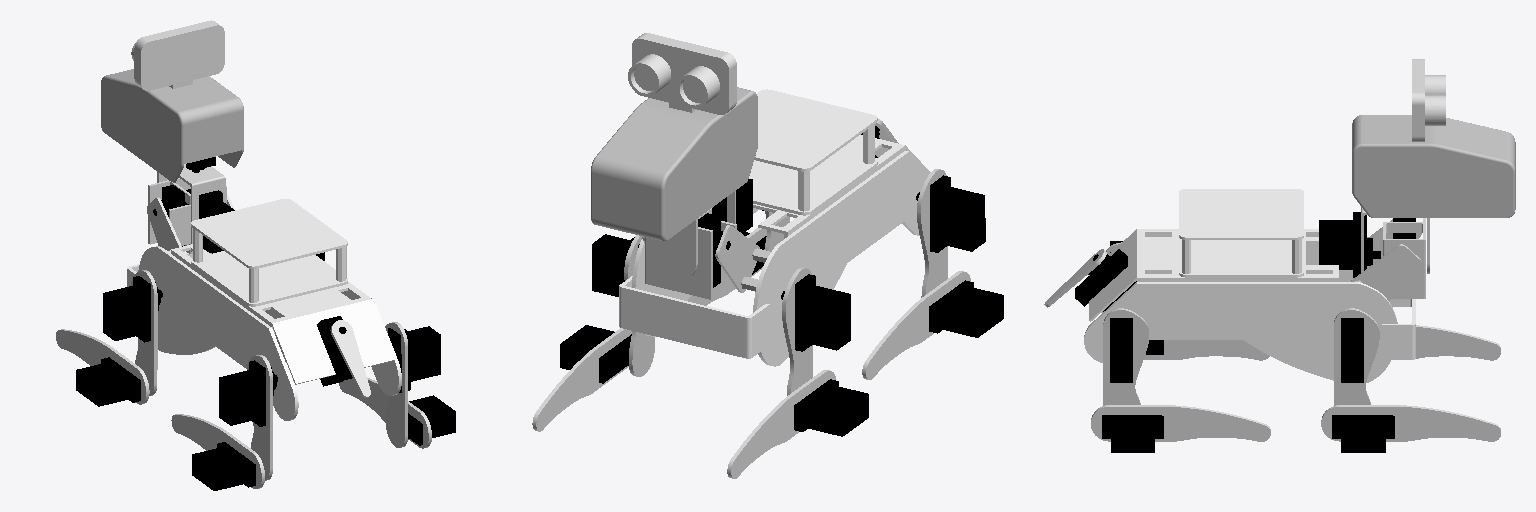
--- What the picture shows (computed from the rendered views, not written in the file) ---
The picture shows the robot from 3 angles, left to right: view 1: azimuth 30°, elevation 25°; view 2: azimuth 150°, elevation 25°; view 3: azimuth 270°, elevation 25°; orthographic projection.
Robot: PiDog — 27 links, 26 joints (12 revolute, 14 fixed); root link body; default pose: every joint at zero.
Visible links, largest first — view 1: body, head, eyes, motor_6, motor_4, motor_7, motor_5, motor_0, back_left_leg_a, front_left_leg_a, back_right_leg_b, motor_1 (+9 smaller); view 2: body, head, eyes, motor_6, motor_4, motor_5, motor_7, back_left_leg_a, front_left_leg_a, front_right_leg_a, neck2, motor_3 (+9 smaller); view 3: body, head, back_right_leg_a, front_right_leg_a, motor_10, neck1, back_right_leg_b, front_right_leg_b, eyes, motor_3, motor_1, front_left_leg_a (+6 smaller).
Boxes of the visible links, <box> form: body: <box>127,199,401,420</box>; head: <box>101,69,243,182</box>; eyes: <box>131,20,224,90</box>; motor_6: <box>103,276,162,342</box>; motor_4: <box>219,360,277,426</box>; motor_7: <box>76,357,140,406</box>; motor_5: <box>192,442,255,490</box>; motor_0: <box>388,326,440,392</box>; back_left_leg_a: <box>171,414,264,488</box>; front_left_leg_a: <box>56,329,149,404</box>; back_right_leg_b: <box>385,322,407,447</box>; motor_1: <box>408,395,455,445</box>; body: <box>619,89,930,366</box>; head: <box>591,87,757,240</box>; eyes: <box>628,33,736,114</box>; motor_6: <box>781,274,850,351</box>; motor_4: <box>916,175,985,252</box>; motor_5: <box>929,280,1003,337</box>; motor_7: <box>794,379,868,436</box>; back_left_leg_a: <box>862,271,970,379</box>; front_left_leg_a: <box>727,370,835,478</box>; front_right_leg_a: <box>532,328,631,431</box>; neck2: <box>645,208,736,299</box>; motor_3: <box>560,325,631,383</box>; body: <box>1084,189,1415,382</box>; head: <box>1352,115,1515,217</box>; back_right_leg_a: <box>1091,405,1270,441</box>; front_right_leg_a: <box>1321,405,1500,441</box>; motor_10: <box>1319,212,1380,277</box>; neck1: <box>1351,219,1421,300</box>; back_right_leg_b: <box>1103,308,1148,405</box>; front_right_leg_b: <box>1334,308,1379,405</box>; eyes: <box>1412,59,1445,141</box>; motor_3: <box>1332,415,1394,452</box>; motor_1: <box>1102,415,1163,452</box>; front_left_leg_a: <box>1416,325,1500,360</box>.
Bounding box of the posed robot: 0.145 × 0.2453 × 0.1856 m (x, y, z).
Meshes: 10 distinct files referenced, 27 mesh visuals loaded (10 Collada DAE).

robot.urdf — PiDog:
<?xml version="1.0" ?>
<robot name="PiDog">
  <link name="body">
    <!-- <visual><geometry><box size="0.1 0.1 0.1"/></geometry></visual>
    <collision><geometry><box size="0.1 0.1 0.1"/></geometry></collision> -->
    <visual>
      <origin xyz="0.0 0.0 0.0" rpy="0.0 0.0 0.0"/>
      <geometry>
        <mesh filename="package://pidog_description/meshes/body.dae"/>
      </geometry>
    </visual>
    <collision>
      <origin xyz="0.0 0.0 0.0" rpy="0.0 -0.0 0.0"/>
      <geometry>
        <mesh filename="package://pidog_description/meshes/body.dae"/>
      </geometry>
    </collision>
    <inertial>
      <origin xyz="-0.0 -0.0 -0.0" rpy="0 0 0"/>
      <mass value="0.150235137"/>
      <!-- <inertia ixx="3.850881180e-04" ixy="-3.935522340e-05" ixz="1.660095831e-08" iyy="1.600992763e-04" iyz="4.845267497e-09" izz="3.450054696e-04"/> -->
      <inertia ixx="3.850881180e-04" ixy="1.660095831e-08" ixz="1.660095831e-08" iyy="1.600992763e-04" iyz="4.845267497e-09" izz="3.450054696e-04"/>
    </inertial>
  </link>


  <!-- ===============================================================================================================
  ========================================== BACK RIGHT LEG =====================================================
  =============================================================================================================== -->

  <link name="motor_0">
    <visual>
      <origin xyz="0.0 0.0 0.0" rpy="0.0 -0.0 0.0"/>
      <geometry>
        <mesh filename="package://pidog_description/meshes/motor.dae"/>
      </geometry>
    </visual>
    <collision>
      <origin xyz="0.0 0.0 0.0" rpy="0.0 -0.0 0.0"/>
      <geometry>
        <mesh filename="package://pidog_description/meshes/motor.dae"/>
      </geometry>
    </collision>
    <inertial>
      <origin xyz="0.0060 0.0000 0.0065" rpy="0 0 0"/>
      <mass value="0.009000000"/>
      <inertia ixx="6.435884464e-16" ixy="5.517532056e-32" ixz="-3.026407696e-17" iyy="1.064905063e-15" iyz="2.727860255e-32" izz="6.314836794e-16"/>
    </inertial>
  </link>  
  
  <link name="motor_1">
    <visual>
      <origin xyz="0.0 0.0 0.0" rpy="0.0 -0.0 0.0"/>
      <geometry>
        <mesh filename="package://pidog_description/meshes/motor.dae"/>
      </geometry>
    </visual>
    <collision>
      <origin xyz="0.0 0.0 0.0" rpy="0.0 -0.0 0.0"/>
      <geometry>
        <mesh filename="package://pidog_description/meshes/motor.dae"/>
      </geometry>
    </collision>
    <inertial>
      <origin xyz="0.0060 0.0000 0.0065" rpy="0 0 0"/>
      <mass value="0.009000000"/>
      <inertia ixx="6.435884464e-16" ixy="5.517532056e-32" ixz="-3.026407696e-17" iyy="1.064905063e-15" iyz="2.727860255e-32" izz="6.314836794e-16"/>
    </inertial>
  </link>

  <link name="back_right_leg_b">
    <visual>
      <origin xyz="0.0 0.0 0.0" rpy="0.0 -0.0 0.0"/>
      <geometry>
        <mesh filename="package://pidog_description/meshes/leg_b.dae"/>
      </geometry>
    </visual>
    <collision>
      <origin xyz="0.0 0.0 0.0" rpy="0.0 -0.0 0.0"/>
      <geometry>
        <mesh filename="package://pidog_description/meshes/leg_b.dae"/>
      </geometry>
    </collision>
    <inertial>
      <origin xyz="0.0205 0.0025 0.0000" rpy="0 0 0"/>
      <mass value="0.007296257"/>
      <inertia ixx="2.581522796e-07" ixy="9.763369628e-08" ixz="3.929017112e-23" iyy="2.780168904e-06" iyz="-1.964508556e-23" izz="3.033456726e-06"/>
    </inertial>
  </link>

  <link name="back_right_leg_a">
    <visual>
      <origin xyz="0.0 0.0 0.0" rpy="0.0 -0.0 0.0"/>
      <geometry>
        <mesh filename="package://pidog_description/meshes/leg_a.dae"/>
      </geometry>
    </visual>
    <collision>
      <origin xyz="0.0 0.0 0.0" rpy="0.0 -0.0 0.0"/>
      <geometry>
        <mesh filename="package://pidog_description/meshes/leg_a.dae"/>
      </geometry>
    </collision>
    <inertial>
      <origin xyz="0.0308 0.0009 0.0010" rpy="0 0 0"/>
      <mass value="0.007296257"/>
      <inertia ixx="2.581522796e-07" ixy="9.763369628e-08" ixz="3.929017112e-23" iyy="2.780168904e-06" iyz="-1.964508556e-23" izz="3.033456726e-06"/>
    </inertial>
  </link>

  <joint name="body_to_back_right_leg_b" type="revolute">
    <parent link="body"/>
    <child  link="back_right_leg_b"/>
    <origin xyz="0.0405 -0.06685 -0.009" rpy="0 1.57 0"/>
    <axis xyz="0 0 1"/>
    <limit effort="0.3" velocity="1.0" lower="-1.57" upper="1.57"/>
  </joint>

  <joint name="back_right_leg_b_to_motor_0" type="fixed">
    <parent link="back_right_leg_b"/>
    <child  link="motor_0"/>
    <origin xyz="0 0 0" rpy="0 0 0"/>
  </joint>

  <joint name="back_right_leg_b_to_a" type="revolute">
    <parent link="back_right_leg_b"/>
    <child  link="back_right_leg_a"/>
    <origin xyz="0.047 0 0.0095" rpy="0 0 1.57"/>
    <axis xyz="0 0 1"/>
    <limit effort="0.3" velocity="1.0" lower="-1.57" upper="1.57"/>
  
  </joint>
    <joint name="back_right_leg_a_to_motor_1" type="fixed">
    <parent link="back_right_leg_a"/>
    <child  link="motor_1"/>
    <origin xyz="0 0 0" rpy="0 0 0"/>
  </joint>


    <!-- ===============================================================================================================
  ========================================== FRONT RIGHT LEG =====================================================
  =============================================================================================================== -->

  <link name="motor_2">
    <visual>
      <origin xyz="0.0 0.0 0.0" rpy="0.0 -0.0 0.0"/>
      <geometry>
        <mesh filename="package://pidog_description/meshes/motor.dae"/>
      </geometry>
    </visual>
    <collision>
      <origin xyz="0.0 0.0 0.0" rpy="0.0 -0.0 0.0"/>
      <geometry>
        <mesh filename="package://pidog_description/meshes/motor.dae"/>
      </geometry>
    </collision>
    <inertial>
      <origin xyz="0.0060 0.0000 0.0065" rpy="0 0 0"/>
      <mass value="0.009000000"/>
      <inertia ixx="6.435884464e-16" ixy="5.517532056e-32" ixz="-3.026407696e-17" iyy="1.064905063e-15" iyz="2.727860255e-32" izz="6.314836794e-16"/>
    </inertial>
  </link>  
  
  <link name="motor_3">
    <visual>
      <origin xyz="0.0 0.0 0.0" rpy="0.0 -0.0 0.0"/>
      <geometry>
        <mesh filename="package://pidog_description/meshes/motor.dae"/>
      </geometry>
    </visual>
    <collision>
      <origin xyz="0.0 0.0 0.0" rpy="0.0 -0.0 0.0"/>
      <geometry>
        <mesh filename="package://pidog_description/meshes/motor.dae"/>
      </geometry>
    </collision>
    <inertial>
      <origin xyz="0.0060 0.0000 0.0065" rpy="0 0 0"/>
      <mass value="0.009000000"/>
      <inertia ixx="6.435884464e-16" ixy="5.517532056e-32" ixz="-3.026407696e-17" iyy="1.064905063e-15" iyz="2.727860255e-32" izz="6.314836794e-16"/>
    </inertial>
  </link>

  <link name="front_right_leg_b">
    <visual>
      <origin xyz="0.0 0.0 0.0" rpy="0.0 -0.0 0.0"/>
      <geometry>
        <mesh filename="package://pidog_description/meshes/leg_b.dae"/>
      </geometry>
    </visual>
    <collision>
      <origin xyz="0.0 0.0 0.0" rpy="0.0 -0.0 0.0"/>
      <geometry>
        <mesh filename="package://pidog_description/meshes/leg_b.dae"/>
      </geometry>
    </collision>
    <inertial>
      <origin xyz="0.0205 0.0025 0.0000" rpy="0 0 0"/>
      <mass value="0.007296257"/>
      <inertia ixx="2.581522796e-07" ixy="9.763369628e-08" ixz="3.929017112e-23" iyy="2.780168904e-06" iyz="-1.964508556e-23" izz="3.033456726e-06"/>
    </inertial>
  </link>

  <link name="front_right_leg_a">
    <visual>
      <origin xyz="0.0 0.0 0.0" rpy="0.0 -0.0 0.0"/>
      <geometry>
        <mesh filename="package://pidog_description/meshes/leg_a.dae"/>
      </geometry>
    </visual>
    <collision>
      <origin xyz="0.0 0.0 0.0" rpy="0.0 -0.0 0.0"/>
      <geometry>
        <mesh filename="package://pidog_description/meshes/leg_a.dae"/>
      </geometry>
    </collision>
    <inertial>
      <origin xyz="0.0308 0.0009 0.0010" rpy="0 0 0"/>
      <mass value="0.007296257"/>
      <inertia ixx="2.581522796e-07" ixy="9.763369628e-08" ixz="3.929017112e-23" iyy="2.780168904e-06" iyz="-1.964508556e-23" izz="3.033456726e-06"/>
    </inertial>
  </link>

  <joint name="body_to_from_right_leg_b" type="revolute">
    <parent link="body"/>
    <child  link="front_right_leg_b"/>
    <origin xyz="0.0405 0.05315 -0.009" rpy="0 1.57 0"/>
    <axis xyz="0 0 1"/>
    <limit effort="0.3" velocity="1.0" lower="-1.57" upper="1.57"/>
  </joint>

  <joint name="front_right_leg_b_to_motor_2" type="fixed">
    <parent link="front_right_leg_b"/>
    <child  link="motor_2"/>
    <origin xyz="0 0 0" rpy="0 0 0"/>
  </joint>

  <joint name="front_right_leg_b_to_a" type="revolute">
    <parent link="front_right_leg_b"/>
    <child  link="front_right_leg_a"/>
    <origin xyz="0.047 0 0.0095" rpy="0 0 1.57"/>
    <axis xyz="0 0 1"/>
    <limit effort="0.3" velocity="1.0" lower="-1.57" upper="1.57"/>
  
  </joint>
    <joint name="front_right_leg_a_to_motor_3" type="fixed">
    <parent link="front_right_leg_a"/>
    <child  link="motor_3"/>
    <origin xyz="0 0 0" rpy="0 0 0"/>
  </joint>


      <!-- ===============================================================================================================
  ========================================== BACK LEFT LEG =====================================================
  =============================================================================================================== -->

  <link name="motor_4">
    <visual>
      <origin xyz="0.0 0.0 0.0" rpy="0.0 -0.0 0.0"/>
      <geometry>
        <mesh filename="package://pidog_description/meshes/motor.dae"/>
      </geometry>
    </visual>
    <collision>
      <origin xyz="0.0 0.0 0.0" rpy="0.0 -0.0 0.0"/>
      <geometry>
        <mesh filename="package://pidog_description/meshes/motor.dae"/>
      </geometry>
    </collision>
    <inertial>
      <origin xyz="0.0060 0.0000 0.0065" rpy="0 0 0"/>
      <mass value="0.009000000"/>
      <inertia ixx="6.435884464e-16" ixy="5.517532056e-32" ixz="-3.026407696e-17" iyy="1.064905063e-15" iyz="2.727860255e-32" izz="6.314836794e-16"/>
    </inertial>
  </link>  
  
  <link name="motor_5">
    <visual>
      <origin xyz="0.0 0.0 0.0" rpy="0.0 -0.0 3.1415"/>
      <geometry>
        <mesh filename="package://pidog_description/meshes/motor.dae"/>
      </geometry>
    </visual>
    <collision>
      <origin xyz="0.0 0.0 0.0" rpy="0.0 -0.0 3.1415"/>
      <geometry>
        <mesh filename="package://pidog_description/meshes/motor.dae"/>
      </geometry>
    </collision>
    <inertial>
      <origin xyz="-0.0060 0.0000 0.0065" rpy="0 0 3.1415"/>
      <mass value="0.009000000"/>
      <inertia ixx="6.435884464e-16" ixy="5.517532056e-32" ixz="-3.026407696e-17" iyy="1.064905063e-15" iyz="2.727860255e-32" izz="6.314836794e-16"/>
    </inertial>
  </link>

  <link name="back_left_leg_b">
    <visual>
      <origin xyz="0.0 0.0 0.0" rpy="3.1415 0.0 0.0"/>
      <geometry>
        <mesh filename="package://pidog_description/meshes/leg_b.dae"/>
      </geometry>
    </visual>
    <collision>
      <origin xyz="0.0 0.0 0.0" rpy="3.1415 -0.0 0.0"/>
      <geometry>
        <mesh filename="package://pidog_description/meshes/leg_b.dae"/>
      </geometry>
    </collision>
    <inertial>
      <origin xyz="0.0205 -0.0025 0.0000" rpy="0 0 0"/>
      <mass value="0.007296257"/>
      <inertia ixx="2.581522796e-07" ixy="9.763369628e-08" ixz="3.929017112e-23" iyy="2.780168904e-06" iyz="-1.964508556e-23" izz="3.033456726e-06"/>
    </inertial>
  </link>

  <link name="back_left_leg_a">
    <visual>
      <origin xyz="0.0 0.0 0.0" rpy="0.0 3.1415 0.0"/>
      <geometry>
        <mesh filename="package://pidog_description/meshes/leg_a.dae"/>
      </geometry>
    </visual>
    <collision>
      <origin xyz="0.0 0.0 0.0" rpy="0.0 3.1415 0.0"/>
      <geometry>
        <mesh filename="package://pidog_description/meshes/leg_a.dae"/>
      </geometry>
    </collision>
    <inertial>
      <origin xyz="-0.0308 -0.0009 -0.0010" rpy="0 3.1415 0"/>
      <mass value="0.007296257"/>
      <inertia ixx="2.581522796e-07" ixy="9.763369628e-08" ixz="3.929017112e-23" iyy="2.780168904e-06" iyz="-1.964508556e-23" izz="3.033456726e-06"/>
    </inertial>
  </link>

  <joint name="body_to_back_left_leg_b" type="revolute">
    <parent link="body"/>
    <child  link="back_left_leg_b"/>
    <origin xyz="-0.0405 -0.06685 -0.009" rpy="0 1.57 3.1415"/>
    <axis xyz="0 0 1"/>
    <limit effort="0.3" velocity="1.0" lower="-1.57" upper="1.57"/>
  </joint>

  <joint name="back_left_leg_b_to_motor_4" type="fixed">
    <parent link="back_left_leg_b"/>
    <child  link="motor_4"/>
    <origin xyz="0 0 0" rpy="0 0 0"/>
  </joint>

  <joint name="back_left_leg_b_to_a" type="revolute">
    <parent link="back_left_leg_b"/>
    <child  link="back_left_leg_a"/>
    <origin xyz="0.047 0 0.0095" rpy="0 0 1.57"/>
    <axis xyz="0 0 1"/>
    <limit effort="0.3" velocity="1.0" lower="-1.57" upper="1.57"/>
  
  </joint>
    <joint name="back_left_leg_a_to_motor_5" type="fixed">
    <parent link="back_left_leg_a"/>
    <child  link="motor_5"/>
    <origin xyz="0 0 0" rpy="0 0 0"/>
  </joint>

    <!-- ===============================================================================================================
  ========================================== FRONT LEFT LEG =====================================================
  =============================================================================================================== -->

  <link name="motor_6">
    <visual>
      <origin xyz="0.0 0.0 0.0" rpy="0.0 -0.0 0.0"/>
      <geometry>
        <mesh filename="package://pidog_description/meshes/motor.dae"/>
      </geometry>
    </visual>
    <collision>
      <origin xyz="0.0 0.0 0.0" rpy="0.0 -0.0 0.0"/>
      <geometry>
        <mesh filename="package://pidog_description/meshes/motor.dae"/>
      </geometry>
    </collision>
    <inertial>
      <origin xyz="0.0060 0.0000 0.0065" rpy="0 0 0"/>
      <mass value="0.009000000"/>
      <inertia ixx="6.435884464e-16" ixy="5.517532056e-32" ixz="-3.026407696e-17" iyy="1.064905063e-15" iyz="2.727860255e-32" izz="6.314836794e-16"/>
    </inertial>
  </link>  
  
  <link name="motor_7">
    <visual>
      <origin xyz="0.0 0.0 0.0" rpy="0.0 -0.0 3.1415"/>
      <geometry>
        <mesh filename="package://pidog_description/meshes/motor.dae"/>
      </geometry>
    </visual>
    <collision>
      <origin xyz="0.0 0.0 0.0" rpy="0.0 -0.0 3.1415"/>
      <geometry>
        <mesh filename="package://pidog_description/meshes/motor.dae"/>
      </geometry>
    </collision>
    <inertial>
      <origin xyz="-0.0060 0.0000 0.0065" rpy="0 0 3.1415"/>
      <mass value="0.009000000"/>
      <inertia ixx="6.435884464e-16" ixy="5.517532056e-32" ixz="-3.026407696e-17" iyy="1.064905063e-15" iyz="2.727860255e-32" izz="6.314836794e-16"/>
    </inertial>
  </link>

  <link name="front_left_leg_b">
    <visual>
      <origin xyz="0.0 0.0 0.0" rpy="3.1415 -0.0 0.0"/>
      <geometry>
        <mesh filename="package://pidog_description/meshes/leg_b.dae"/>
      </geometry>
    </visual>
    <collision>
      <origin xyz="0.0 0.0 0.0" rpy="3.1415 -0.0 0.0"/>
      <geometry>
        <mesh filename="package://pidog_description/meshes/leg_b.dae"/>
      </geometry>
    </collision>
    <inertial>
      <origin xyz="0.0205 -0.0025 0.0000" rpy="0 0 0"/>
      <mass value="0.007296257"/>
      <inertia ixx="2.581522796e-07" ixy="9.763369628e-08" ixz="3.929017112e-23" iyy="2.780168904e-06" iyz="-1.964508556e-23" izz="3.033456726e-06"/>
    </inertial>
  </link>

  <link name="front_left_leg_a">
    <visual>
      <origin xyz="0.0 0.0 0.0" rpy="0.0 3.1415 0.0"/>
      <geometry>
        <mesh filename="package://pidog_description/meshes/leg_a.dae"/>
      </geometry>
    </visual>
    <collision>
      <origin xyz="0.0 0.0 0.0" rpy="0.0 3.1415 0.0"/>
      <geometry>
        <mesh filename="package://pidog_description/meshes/leg_a.dae"/>
      </geometry>
    </collision>
    <inertial>
      <origin xyz="-0.0308 -0.0009 -0.0010" rpy="0 3.1415 0"/>
      <mass value="0.007296257"/>
      <inertia ixx="2.581522796e-07" ixy="9.763369628e-08" ixz="3.929017112e-23" iyy="2.780168904e-06" iyz="-1.964508556e-23" izz="3.033456726e-06"/>
    </inertial>
  </link>

  <joint name="body_to_front_left_leg_b" type="revolute">
    <parent link="body"/>
    <child  link="front_left_leg_b"/>
    <origin xyz="-0.0405 0.05315 -0.009" rpy="0 1.57 3.1415"/>
    <axis xyz="0 0 1"/>
    <limit effort="0.3" velocity="1.0" lower="-1.57" upper="1.57"/>
  </joint>

  <joint name="front_left_leg_b_to_motor_6" type="fixed">
    <parent link="front_left_leg_b"/>
    <child  link="motor_6"/>
    <origin xyz="0 0 0" rpy="0 0 0"/>
  </joint>

  <joint name="front_left_leg_b_to_a" type="revolute">
    <parent link="front_left_leg_b"/>
    <child  link="front_left_leg_a"/>
    <origin xyz="0.047 0 0.0095" rpy="0 0 1.57"/>
    <axis xyz="0 0 1"/>
    <limit effort="0.3" velocity="1.0" lower="-1.57" upper="1.57"/>
  
  </joint>
    <joint name="front_left_leg_a_to_motor_7" type="fixed">
    <parent link="front_left_leg_a"/>
    <child  link="motor_7"/>
    <origin xyz="0 0 0" rpy="0 0 0"/>
  </joint>

    <!-- ===============================================================================================================
  ========================================== TAIL ================================================================
  =============================================================================================================== -->

  <link name="motor_8">
    <visual>
      <origin xyz="0.0 0.0 0.0" rpy="-3.1415 0.0 -1.57075"/>
      <geometry>
        <mesh filename="package://pidog_description/meshes/motor.dae"/>
      </geometry>
    </visual>
    <collision>
      <origin xyz="0.0 0.0 0.0" rpy="-3.1415 0.0 -1.57075"/>
      <geometry>
        <mesh filename="package://pidog_description/meshes/motor.dae"/>
      </geometry>
    </collision>
    <inertial>
      <origin xyz="0.0 -0.0060 -0.0065" rpy="0 0 0"/>
      <mass value="0.009000000"/>
      <inertia ixx="6.435884464e-16" ixy="5.517532056e-32" ixz="-3.026407696e-17" iyy="1.064905063e-15" iyz="2.727860255e-32" izz="6.314836794e-16"/>
    </inertial>
  </link>  

  <link name="tail">
    <visual>
      <origin xyz="0.0 0.0 0.0" rpy="0.0 -0.0 0.0"/>
      <geometry>
        <mesh filename="package://pidog_description/meshes/tail.dae"/>
      </geometry>
    </visual>
    <collision>
      <origin xyz="0.0 0.0 0.0" rpy="0.0 -0.0 0.0"/>
      <geometry>
        <mesh filename="package://pidog_description/meshes/tail.dae"/>
      </geometry>
    </collision>
    <inertial>
      <origin xyz="0 -0.0161 0" rpy="0 0 0"/>
      <mass value="0.001927895"/>
      <inertia ixx="1.461160457e-07" ixy="1.310689676e-07" ixz="0.000000000e+00" iyy="1.461160457e-07" iyz="-1.257285476e-21" izz="2.634231983e-07"/>
    </inertial>
  </link>

  <joint name="body_to_motor_8" type="fixed">
    <parent link="body"/>
    <child  link="motor_8"/>
    <origin xyz="0 -0.07375 0.01" rpy="0.785375 0 0"/>
  </joint>

  <joint name="motor_8_to_tail" type="revolute">
    <parent link="motor_8"/>
    <child  link="tail"/>
    <origin xyz="0 0 0.008" rpy="0 0 0"/>
    <axis xyz="0 0 1"/>
    <limit effort="0.3" velocity="1.0" lower="-1.57" upper="1.57"/>
  </joint>


  <!-- ===============================================================================================================
  ========================================== HEAD ================================================================
  =============================================================================================================== -->

  <link name="motor_9">
    <visual>
      <origin xyz="0.0 0.0 0.0" rpy="0.0 -0.0 0.0"/>
      <geometry>
        <mesh filename="package://pidog_description/meshes/motor.dae"/>
      </geometry>
    </visual>
    <collision>
      <origin xyz="0.0 0.0 0.0" rpy="0.0 -0.0 0.0"/>
      <geometry>
        <mesh filename="package://pidog_description/meshes/motor.dae"/>
      </geometry>
    </collision>
    <inertial>
      <origin xyz="0.0060 0.0000 0.0065" rpy="0 0 0"/>
      <mass value="0.009000000"/>
      <inertia ixx="6.435884464e-16" ixy="5.517532056e-32" ixz="-3.026407696e-17" iyy="1.064905063e-15" iyz="2.727860255e-32" izz="6.314836794e-16"/>
    </inertial>
  </link>  

    <link name="motor_10">
    <visual>
      <origin xyz="0.0 0.0 0.0" rpy="0.0 -0.0 0.0"/>
      <geometry>
        <mesh filename="package://pidog_description/meshes/motor.dae"/>
      </geometry>
    </visual>
    <collision>
      <origin xyz="0.0 0.0 0.0" rpy="0.0 -0.0 0.0"/>
      <geometry>
        <mesh filename="package://pidog_description/meshes/motor.dae"/>
      </geometry>
    </collision>
    <inertial>
      <origin xyz="0.0060 0.0000 0.0065" rpy="0 0 0"/>
      <mass value="0.009000000"/>
      <inertia ixx="6.435884464e-16" ixy="5.517532056e-32" ixz="-3.026407696e-17" iyy="1.064905063e-15" iyz="2.727860255e-32" izz="6.314836794e-16"/>
    </inertial>
  </link>  

  <link name="motor_11">
    <visual>
      <origin xyz="0.0 0.0 0.0" rpy="0.0 -0.0 0.0"/>
      <geometry>
        <mesh filename="package://pidog_description/meshes/motor.dae"/>
      </geometry>
    </visual>
    <collision>
      <origin xyz="0.0 0.0 0.0" rpy="0.0 -0.0 0.0"/>
      <geometry>
        <mesh filename="package://pidog_description/meshes/motor.dae"/>
      </geometry>
    </collision>
    <inertial>
      <origin xyz="0.0060 0.0000 0.0065" rpy="0 0 0"/>
      <mass value="0.009000000"/>
      <inertia ixx="6.435884464e-16" ixy="5.517532056e-32" ixz="-3.026407696e-17" iyy="1.064905063e-15" iyz="2.727860255e-32" izz="6.314836794e-16"/>
    </inertial>
  </link>  

  <link name="neck1">
    <visual>
      <origin xyz="0.0 0.0 0.0" rpy="0.0 -0.0 0.0"/>
      <geometry>
        <mesh filename="package://pidog_description/meshes/neck1.dae"/>
      </geometry>
    </visual>
    <collision>
      <origin xyz="0.0 0.0 0.0" rpy="0.0 -0.0 0.0"/>
      <geometry>
        <mesh filename="package://pidog_description/meshes/neck1.dae"/>
      </geometry>
    </collision>
    <inertial>
      <origin xyz="0 0 0.011" rpy="0 0 0"/>
      <mass value="0.001927895"/>
      <inertia ixx="1.461160457e-07" ixy="1.310689676e-07" ixz="0.000000000e+00" iyy="1.461160457e-07" iyz="-1.257285476e-21" izz="2.634231983e-07"/>
    </inertial>
  </link>  
  
  <link name="neck2">
    <visual>
      <origin xyz="0.0 0.0 0.0" rpy="0.0 -0.0 0.0"/>
      <geometry>
        <mesh filename="package://pidog_description/meshes/neck2.dae"/>
      </geometry>
    </visual>
    <collision>
      <origin xyz="0.0 0.0 0.0" rpy="0.0 -0.0 0.0"/>
      <geometry>
        <mesh filename="package://pidog_description/meshes/neck2.dae"/>
      </geometry>
    </collision>
    <inertial>
      <origin xyz="-0.0008 0.0024 0.0" rpy="0 0 0"/>
      <mass value="0.001927895"/>
      <inertia ixx="1.461160457e-07" ixy="1.310689676e-07" ixz="0.000000000e+00" iyy="1.461160457e-07" iyz="-1.257285476e-21" izz="2.634231983e-07"/>
    </inertial>
  </link>  
  
  <link name="neck3">
    <visual>
      <origin xyz="0.0 0.0 0.0" rpy="0.0 -0.0 0.0"/>
      <geometry>
        <mesh filename="package://pidog_description/meshes/neck3.dae"/>
      </geometry>
    </visual>
    <collision>
      <origin xyz="0.0 0.0 0.0" rpy="0.0 -0.0 0.0"/>
      <geometry>
        <mesh filename="package://pidog_description/meshes/neck3.dae"/>
      </geometry>
    </collision>
    <inertial>
      <origin xyz="0.0014 0.0 -0.0173" rpy="0 0 0"/>
      <mass value="0.001927895"/>
      <inertia ixx="1.461160457e-07" ixy="1.310689676e-07" ixz="0.000000000e+00" iyy="1.461160457e-07" iyz="-1.257285476e-21" izz="2.634231983e-07"/>
    </inertial>
  </link>

  <link name="head">
    <visual>
      <origin xyz="0.0 0.0 0.0" rpy="0.0 -0.0 0.0"/>
      <geometry>
        <mesh filename="package://pidog_description/meshes/head.dae"/>
      </geometry>
    </visual>
    <collision>
      <origin xyz="0.0 0.0 0.0" rpy="0.0 -0.0 0.0"/>
      <geometry>
        <mesh filename="package://pidog_description/meshes/head.dae"/>
      </geometry>
    </collision>
    <inertial>
      <origin xyz="-0.0003 0.0 -0.0011" rpy="0 0 0"/>
      <mass value="0.001927895"/>
      <inertia ixx="1.461160457e-07" ixy="1.310689676e-07" ixz="0.000000000e+00" iyy="1.461160457e-07" iyz="-1.257285476e-21" izz="2.634231983e-07"/>
    </inertial>
  </link>  
  
  <link name="eyes">
    <visual>
      <origin xyz="0.0 0.0 0.0" rpy="0.0 -0.0 0.0"/>
      <geometry>
        <mesh filename="package://pidog_description/meshes/eyes.dae"/>
      </geometry>
    </visual>
    <collision>
      <origin xyz="0.0 0.0 0.0" rpy="0.0 -0.0 0.0"/>
      <geometry>
        <mesh filename="package://pidog_description/meshes/eyes.dae"/>
      </geometry>
    </collision>
    <inertial>
      <origin xyz="-0.003 0.0004 -0.0013" rpy="0 0 0"/>
      <mass value="0.001927895"/>
      <inertia ixx="1.461160457e-07" ixy="1.310689676e-07" ixz="0.000000000e+00" iyy="1.461160457e-07" iyz="-1.257285476e-21" izz="2.634231983e-07"/>
    </inertial>
  </link>

  <joint name="body_to_neck1" type="fixed">
    <parent link="body"/>
    <child  link="neck1"/>
    <origin xyz="0 0.07 0.013" rpy="0 0.785375 1.57075"/>
  </joint>  
  
  <joint name="neck1_to_motor_9" type="revolute">
    <parent link="neck1"/>
    <child  link="motor_9"/>
    <!-- <origin xyz="0 -0.0025 0.0125" rpy="0 0 0"/> -->
    <origin xyz="0 0.01 0.015" rpy="1.57075 0.785375 0"/>
      <limit effort="0.3" velocity="1.0" lower="-1.57" upper="1.57"/>
    <axis xyz="0 0 1"/>
  </joint>  
  
  <joint name="motor_9_to_neck2" type="fixed">
    <parent link="motor_9"/>
    <child  link="neck2"/>
    <!-- <origin xyz="0 -0.0025 0.0125" rpy="0 0 0"/> -->
    <origin xyz="0.006 -0.001 0.0125" rpy="0.0 0.0 0.0"/>
  </joint>

  <joint name="neck2_to_motor_10" type="revolute">
    <parent link="neck2"/>
    <child  link="motor_10"/>
    <!-- <origin xyz="0 -0.0025 0.0125" rpy="0 0 0"/> -->
    <origin xyz="0 -0.021 -0.003" rpy="-1.57075 0 3.1415"/>
      <limit effort="0.3" velocity="1.0" lower="-1.57" upper="1.57"/>
    <axis xyz="0 0 1"/>
  </joint>  

  <joint name="motor_10_to_neck3" type="fixed">
    <parent link="motor_10"/>
    <child  link="neck3"/>
    <!-- <origin xyz="0 -0.0025 0.0125" rpy="0 0 0"/> -->
    <origin xyz="0.011 0.0 -0.0" rpy="0.0 0.0 0.0"/>
  </joint>

  <joint name="neck3_to_motor_11" type="revolute">
    <parent link="neck3"/>
    <child  link="motor_11"/>
    <!-- <origin xyz="0 -0.0025 0.0125" rpy="0 0 0"/> -->
    <origin xyz="0.0265 0.0 -0.0125" rpy="0 1.57075 0"/>
      <limit effort="0.3" velocity="1.0" lower="-1.57" upper="1.57"/>
    <axis xyz="0 0 1"/>
  </joint> 

   <joint name="motor_11_to_head" type="fixed">
    <parent link="motor_11"/>
    <child  link="head"/>
    <!-- <origin xyz="0 -0.0025 0.0125" rpy="0 0 0"/> -->
    <origin xyz="0.025 0.0 0.015" rpy="0 0.0 0"/>
  </joint>    
  
  <joint name="head_to_eyes" type="fixed">
    <parent link="head"/>
    <child  link="eyes"/>
    <!-- <origin xyz="0 -0.0025 0.0125" rpy="0 0 0"/> -->
    <origin xyz="0.0 0.0 0.036" rpy="0 0.0 0"/>
  </joint> 

  <!-- <joint name="body_to_motor_8" type="fixed">
    <parent link="body"/>
    <child  link="motor_8"/>
    <origin xyz="0 -0.07375 0.01" rpy="0.785375 0 0"/>
  </joint>

  <joint name="motor_8_to_tail" type="revolute">
    <parent link="motor_8"/>
    <child  link="tail"/>
    <origin xyz="0 0 0.008" rpy="0 0 0"/>
    <axis xyz="0 0 1"/>
    <limit effort="0.3" velocity="1.0" lower="-1.57" upper="1.57"/>
  </joint> -->

</robot>
